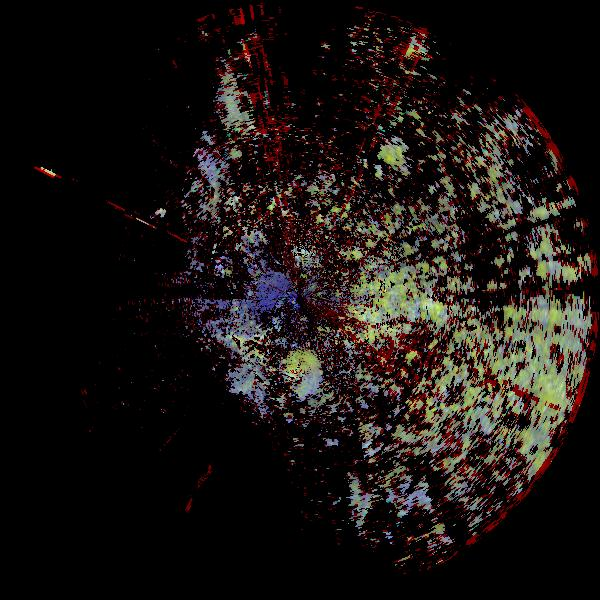roost: (273, 344, 333, 404)
